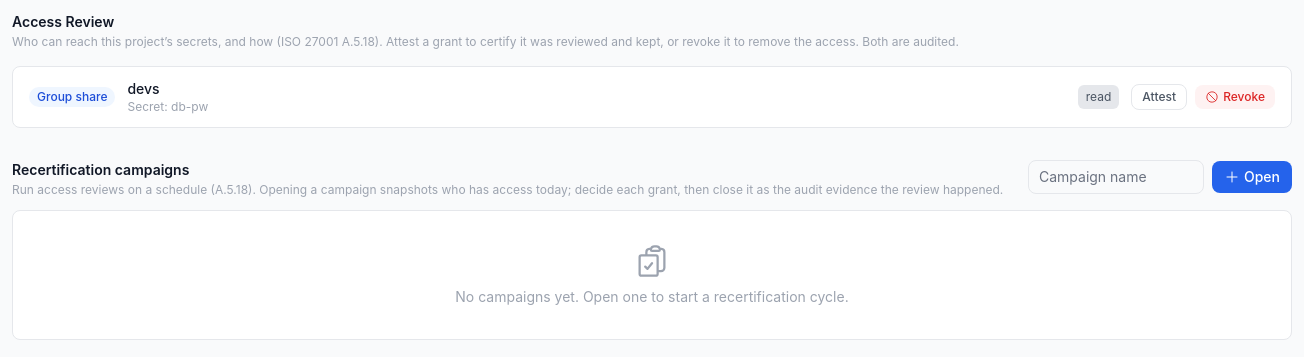
Test: ProjectAccessReviewTab › cancels a pending revoke confirmation without revoking
Click the button "Revoke" at (1235, 97), box top-left (1195, 85), bottom-right (1275, 109)
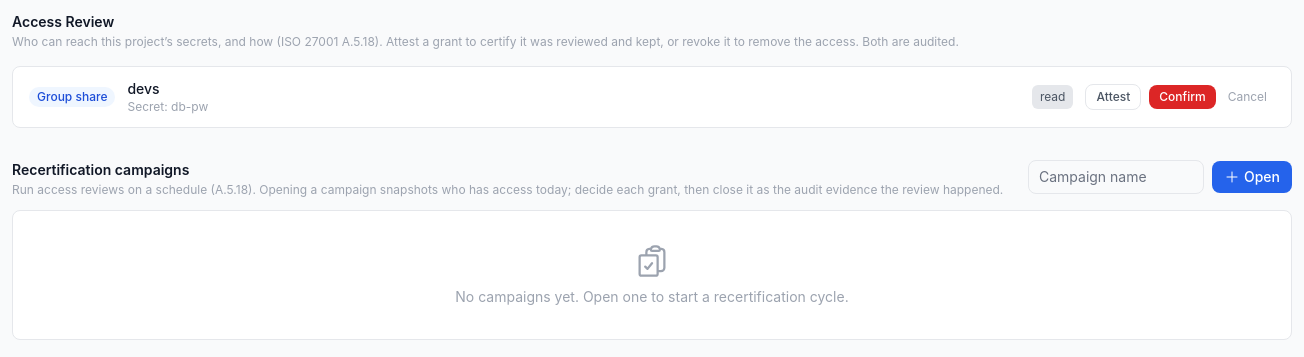
Click the button "Cancel" at (1247, 97), box top-left (1220, 85), bottom-right (1275, 109)
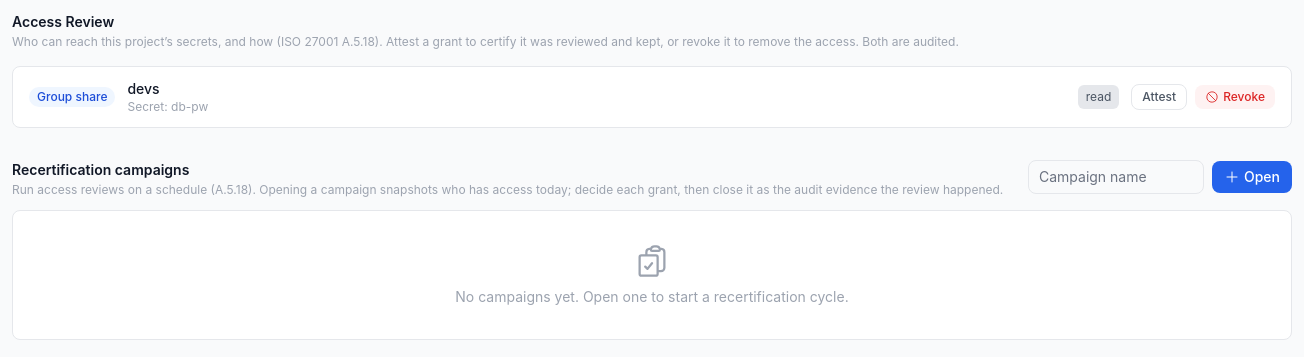
Now the button "Revoke" is shown, box top-left (1195, 85), bottom-right (1275, 109)
